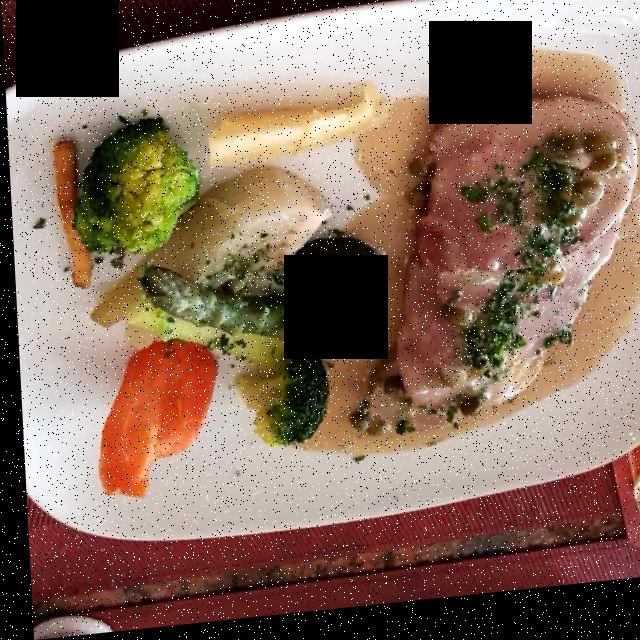beef: (355, 85, 621, 432)
broccoli: (52, 70, 633, 483)
capers: (347, 127, 625, 442)
mixed-vegetables: (62, 52, 388, 493)
sauce-cream: (306, 58, 636, 458)
